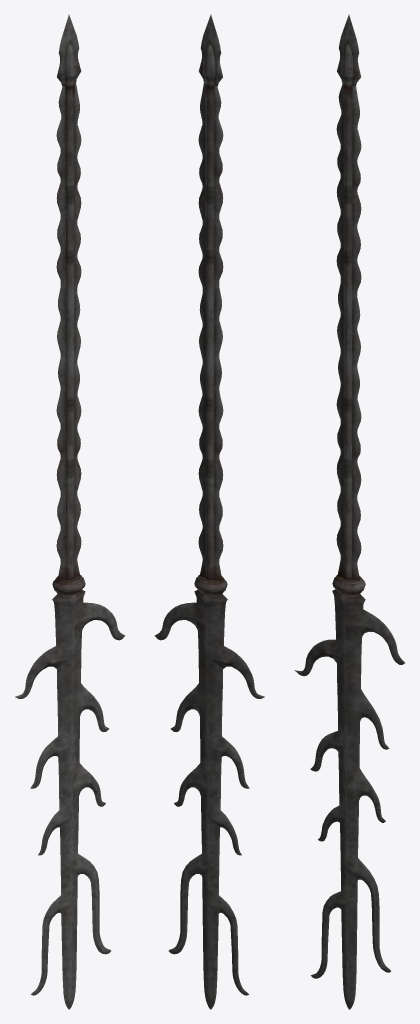
File: weapon-wp_a_0933.glb
The picture shows the model from 3 angles, left to right: view 1: azimuth 30°, elevation 25°; view 2: azimuth 150°, elevation 25°; view 3: azimuth 330°, elevation 25°; orthographic projection.
Parts seen in each view (by area): view 1: wp_a_0933_mesh; view 2: wp_a_0933_mesh; view 3: wp_a_0933_mesh.
Boxes of the visible parts, bbox=[...] form: wp_a_0933_mesh: bbox=[15, 14, 125, 1009]; wp_a_0933_mesh: bbox=[154, 14, 264, 1009]; wp_a_0933_mesh: bbox=[295, 14, 404, 1009].
Bounding box in the file's own units: 0.2531 × 2.17 × 0.0563.
1 material, 1 textured.
